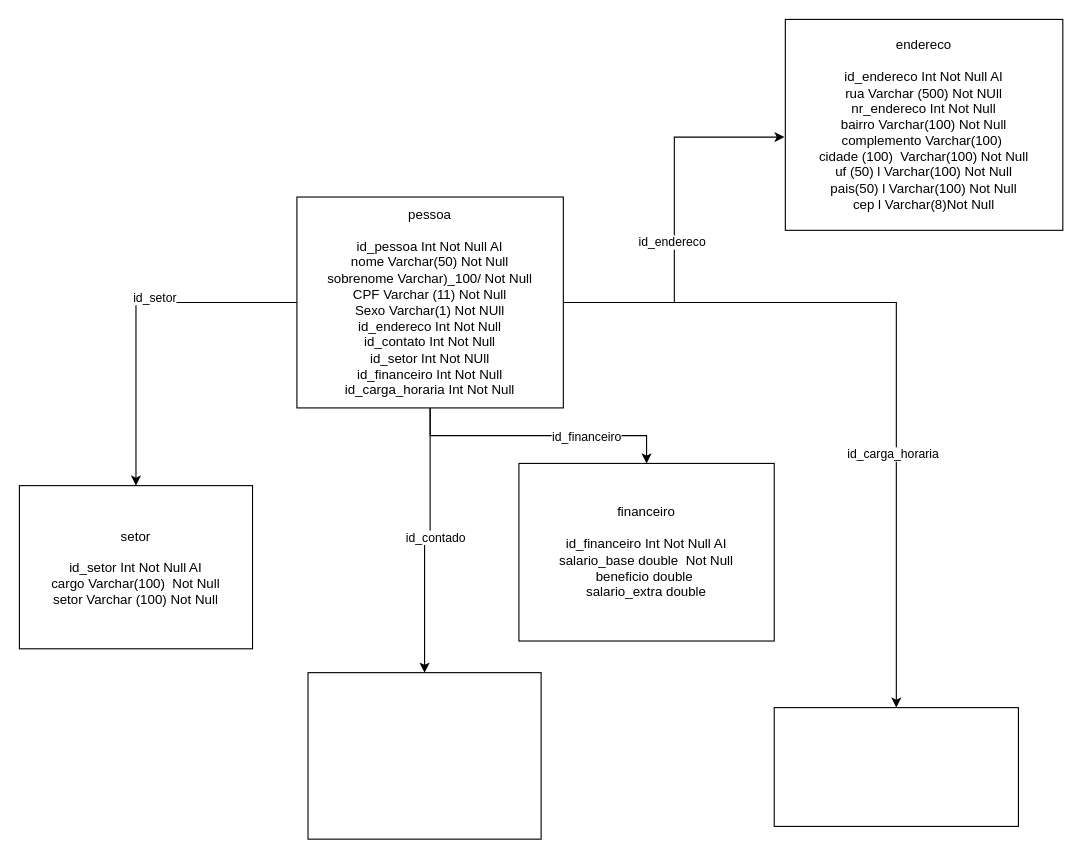
Some shapes in this 1082 by 859 pixel diagram are drawn without their labels. Each missing label, with the box of its shape:
carga_horaria id_carga_horaria Int Not Null AI turno Varchhar(100) Not Null: (773, 707, 1018, 826)
contato id_contato Int Not Null AI telefone Varchar(100) email Varchar(100): (307, 672, 541, 839)
